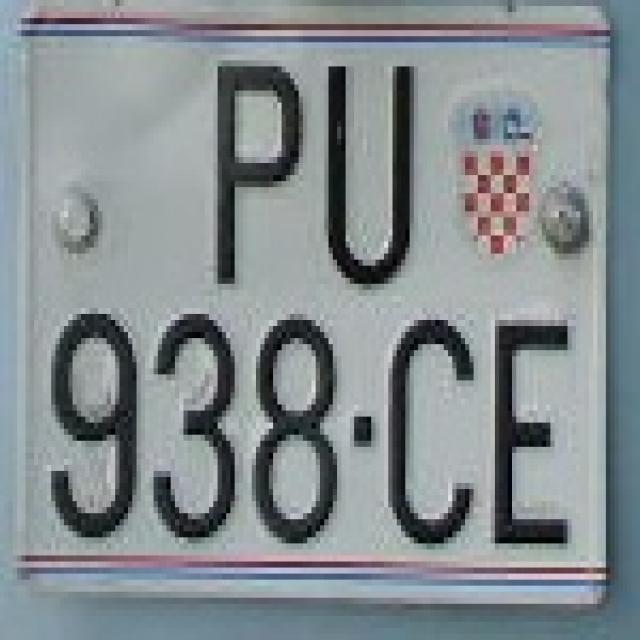3: (145, 302, 248, 543)
8: (244, 302, 342, 555)
9: (34, 302, 141, 549)
C: (375, 296, 478, 549)
E: (486, 290, 584, 555)
P: (192, 48, 303, 290)
U: (316, 36, 422, 290)
